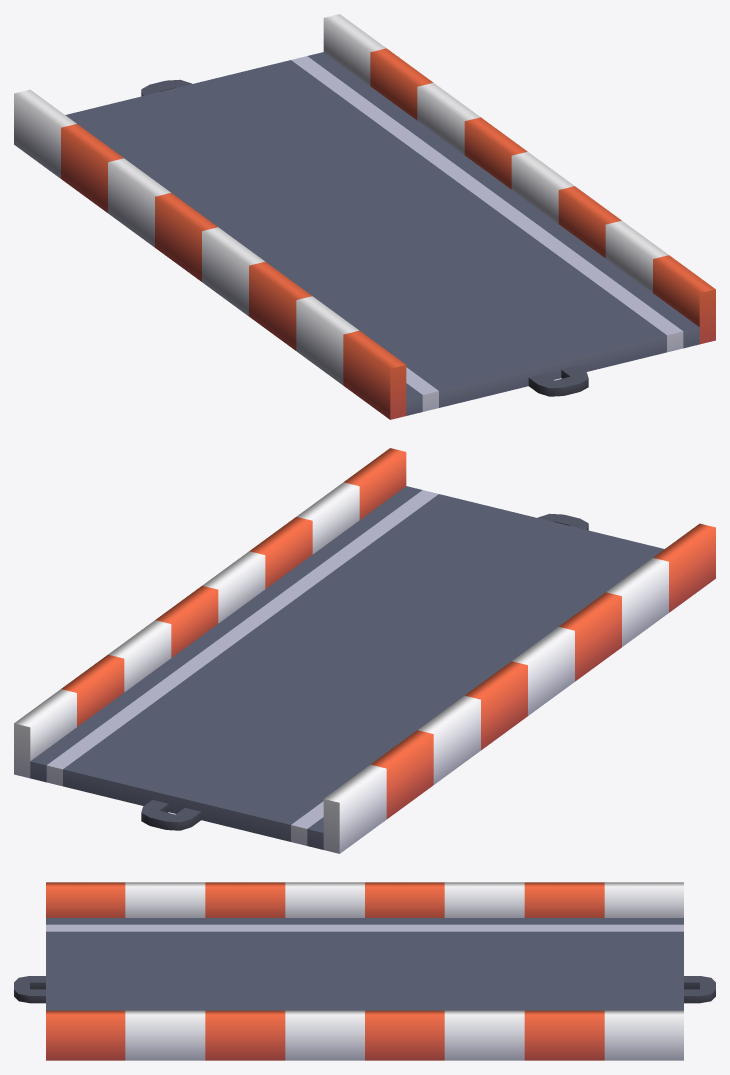
The model's file is kenney-toy-car-track-road-wide-straight.glb.
3 renders of one model, top to bottom at view 1: azimuth 30°, elevation 25°; view 2: azimuth 150°, elevation 25°; view 3: azimuth 270°, elevation 25°, orthographic. The views are drawn at different scales.
Visible parts, largest first — view 1: track-road-wide-straight; view 2: track-road-wide-straight; view 3: track-road-wide-straight.
Part boxes in pixels (left/top/right/bottom): track-road-wide-straight: left=14, top=14, right=715, bottom=419; track-road-wide-straight: left=14, top=448, right=715, bottom=853; track-road-wide-straight: left=14, top=882, right=715, bottom=1060.
Bounding box in the file's own units: 2 × 0.2997 × 4.4.
1 material, 1 textured.
